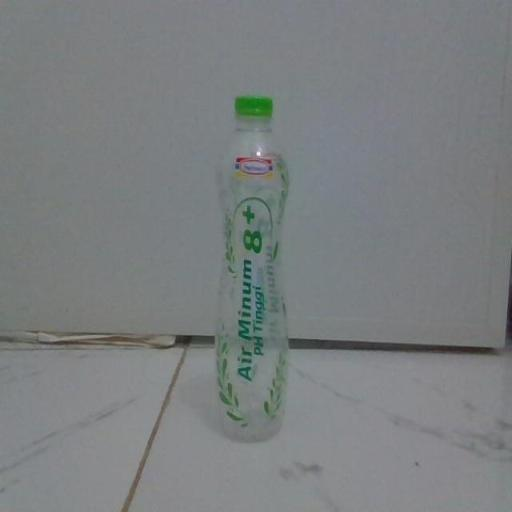bottle: (186, 74, 329, 454)
